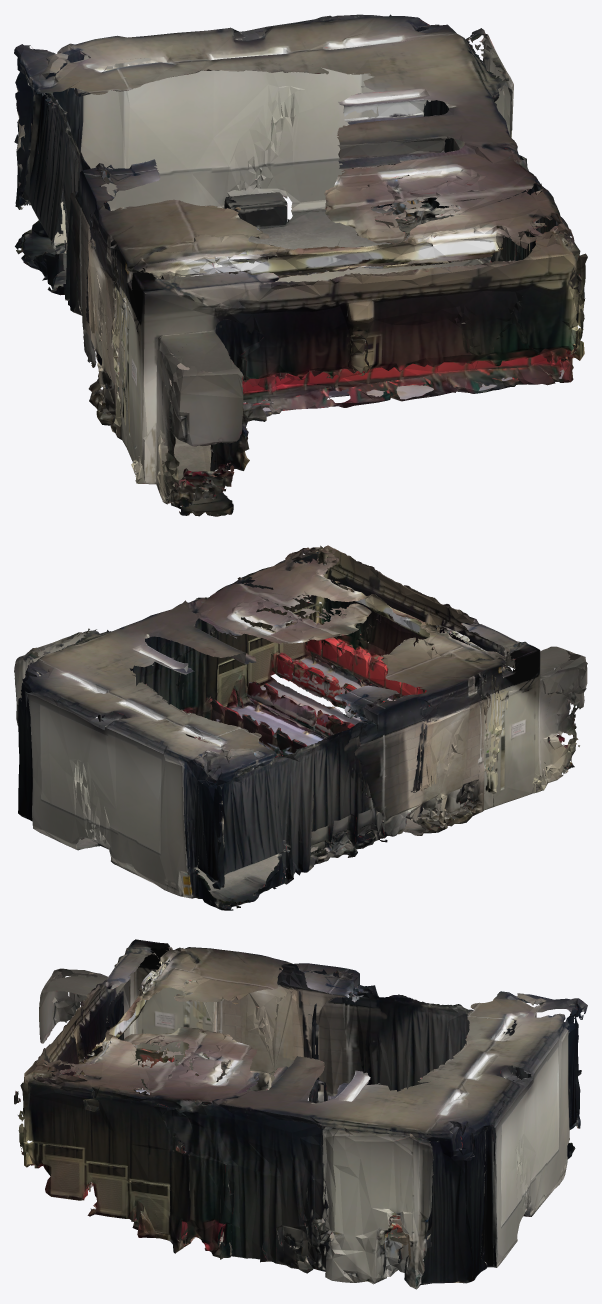
File: MLG06_LOW_POLY.fbx
The picture shows the model from 3 angles, top to bottom: view 1: azimuth 30°, elevation 25°; view 2: azimuth 150°, elevation 25°; view 3: azimuth 270°, elevation 25°; orthographic projection. The views are drawn at different scales.
Parts seen in each view (by area): view 1: MLG06_LOW_POLY; view 2: MLG06_LOW_POLY; view 3: MLG06_LOW_POLY.
Part boxes in pixels (bbox=[...]): MLG06_LOW_POLY: bbox=[14, 14, 587, 516]; MLG06_LOW_POLY: bbox=[14, 545, 587, 910]; MLG06_LOW_POLY: bbox=[14, 939, 587, 1289].
Bounding box in the file's own units: 945 × 343 × 1087.
Materials: 1 (1 with a texture image).
